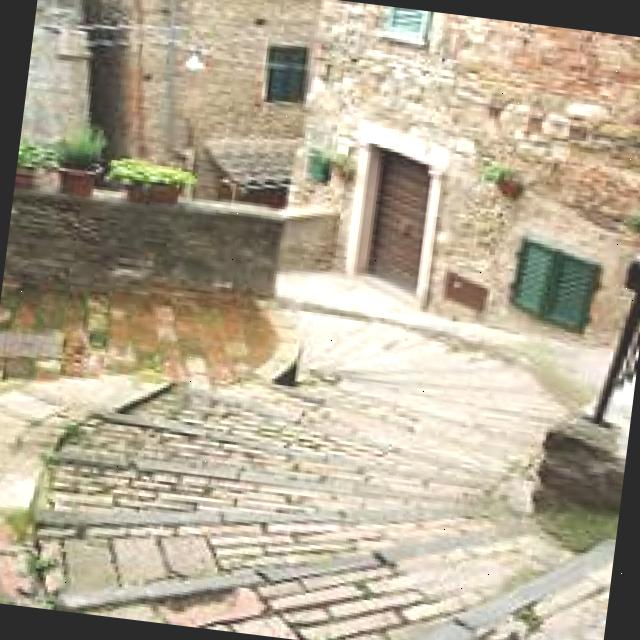stairs: (0, 222, 631, 640)
